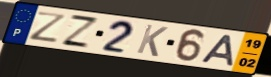2: (97, 19, 137, 57)
6: (174, 27, 207, 63)
A: (199, 33, 235, 67)
K: (134, 23, 170, 58)
Z: (59, 13, 102, 50), (29, 10, 70, 44)
